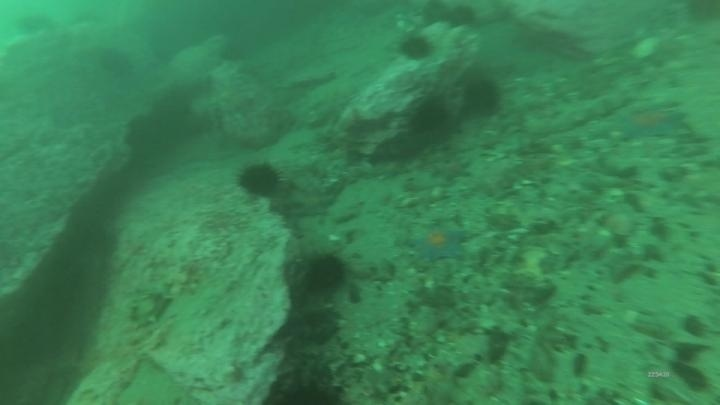echinus: (264, 358, 348, 405), (406, 93, 453, 138), (302, 252, 348, 295), (235, 160, 283, 200), (461, 75, 504, 118), (96, 45, 135, 80), (397, 32, 435, 63), (682, 1, 720, 27), (216, 38, 250, 66)
starfish: (114, 357, 191, 405), (615, 103, 690, 143), (409, 220, 470, 264), (428, 158, 473, 184)
